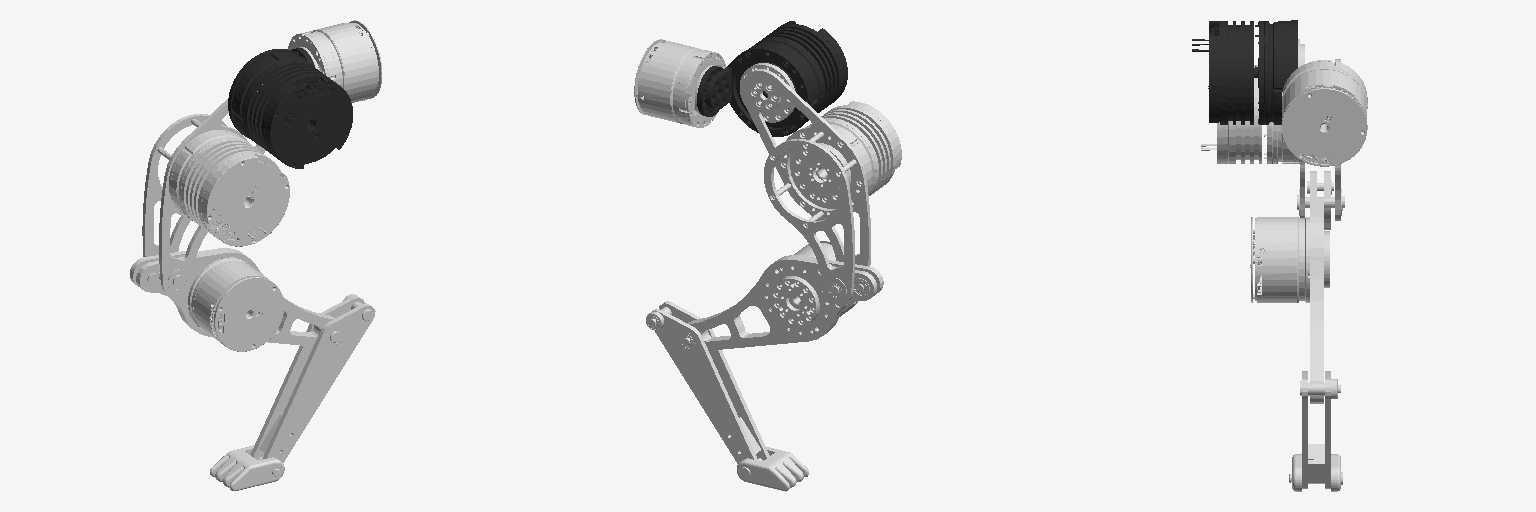
URDF robot description (CM_HL_v8):
<?xml version="1.0" encoding="utf-8"?>
<!-- This URDF was automatically created by SolidWorks to URDF Exporter! Originally created by Stephen Brawner (brawner@gmail.com) 
     Commit Version: 1.6.0-4-g7f85cfe  Build Version: 1.6.7995.38578
     For more information, please see http://wiki.ros.org/sw_urdf_exporter -->
<robot
  name="CM_HL_v8">
  <link
    name="base_link">
    <inertial>
      <origin
        xyz="0.079147034347242 0.000256543804017355 0.000435548775883074"
        rpy="0 0 0" />
      <mass
        value="0.0166778103679292" />
      <inertia
        ixx="1.46638258492931E-05"
        ixy="1.90183148822614E-09"
        ixz="3.68488235881721E-10"
        iyy="7.16031019539989E-06"
        iyz="-4.3543995749257E-08"
        izz="7.51790795790666E-06" />
    </inertial>
    <visual>
      <origin
        xyz="0 0 0"
        rpy="0 0 0" />
      <geometry>
        <mesh
          filename="package://CM_HL_v8/meshes/base_link.STL" />
      </geometry>
      <material
        name="">
        <color
          rgba="0.894117647058823 0.894117647058823 0.894117647058823 1" />
      </material>
    </visual>
    <collision>
      <origin
        xyz="0 0 0"
        rpy="0 0 0" />
      <geometry>
        <mesh
          filename="package://CM_HL_v8/meshes/base_link.STL" />
      </geometry>
    </collision>
  </link>
  <link
    name="HL_link2_thigh_r">
    <inertial>
      <origin
        xyz="0.0199957134741563 -0.0387726556940942 -0.000170134594790525"
        rpy="0 0 0" />
      <mass
        value="0.0392091866021753" />
      <inertia
        ixx="2.29078530952156E-05"
        ixy="-9.40088287932107E-09"
        ixz="-4.45868024964848E-07"
        iyy="4.06585481198753E-05"
        iyz="-5.4665397253342E-08"
        izz="2.37194865231989E-05" />
    </inertial>
    <visual>
      <origin
        xyz="0 0 0"
        rpy="0 0 0" />
      <geometry>
        <mesh
          filename="package://CM_HL_v8/meshes/HL_link2_thigh_r.STL" />
      </geometry>
      <material
        name="">
        <color
          rgba="0.223529411764706 0.223529411764706 0.223529411764706 1" />
      </material>
    </visual>
    <collision>
      <origin
        xyz="0 0 0"
        rpy="0 0 0" />
      <geometry>
        <mesh
          filename="package://CM_HL_v8/meshes/HL_link2_thigh_r.STL" />
      </geometry>
    </collision>
  </link>
  <joint
    name="HL_joint2_thigh_r"
    type="revolute">
    <origin
      xyz="0 0 0"
      rpy="0 0 0" />
    <parent
      link="base_link" />
    <child
      link="HL_link2_thigh_r" />
    <axis
      xyz="-1 0 0" />
    <limit
      lower="-3.14"
      upper="3.14"
      effort="100"
      velocity="0" />
  </joint>
  <link
    name="HL_link3_thigh_p">
    <inertial>
      <origin
        xyz="-0.0603282418668271 -0.0199078023804649 -0.0762642203724724"
        rpy="0 0 0" />
      <mass
        value="0.115410236451442" />
      <inertia
        ixx="0.000223812173465736"
        ixy="9.69380124023684E-08"
        ixz="-9.64538764909021E-05"
        iyy="0.000345887112245255"
        iyz="1.43580558480981E-07"
        izz="0.00012464524632718" />
    </inertial>
    <visual>
      <origin
        xyz="0 0 0"
        rpy="0 0 0" />
      <geometry>
        <mesh
          filename="package://CM_HL_v8/meshes/HL_link3_thigh_p.STL" />
      </geometry>
      <material
        name="">
        <color
          rgba="0.894117647058823 0.894117647058823 0.894117647058823 1" />
      </material>
    </visual>
    <collision>
      <origin
        xyz="0 0 0"
        rpy="0 0 0" />
      <geometry>
        <mesh
          filename="package://CM_HL_v8/meshes/HL_link3_thigh_p.STL" />
      </geometry>
    </collision>
  </link>
  <joint
    name="HL_joint3_thigh_p"
    type="revolute">
    <origin
      xyz="0 0 0"
      rpy="0 0 0" />
    <parent
      link="HL_link2_thigh_r" />
    <child
      link="HL_link3_thigh_p" />
    <axis
      xyz="0 1 0" />
    <limit
      lower="-3.14"
      upper="3.14"
      effort="100"
      velocity="0" />
  </joint>
  <link
    name="HL_link4_knee_p">
    <inertial>
      <origin
        xyz="0.0672316863132475 -0.00429574969821129 -0.0411999833706305"
        rpy="0 0 0" />
      <mass
        value="0.126150884922169" />
      <inertia
        ixx="0.000154424144181571"
        ixy="-1.1783426165149E-06"
        ixz="0.000172260725720491"
        iyy="0.000486223969288729"
        iyz="5.48278372175068E-07"
        izz="0.000334693769655284" />
    </inertial>
    <visual>
      <origin
        xyz="0 0 0"
        rpy="0 0 0" />
      <geometry>
        <mesh
          filename="package://CM_HL_v8/meshes/HL_link4_knee_p.STL" />
      </geometry>
      <material
        name="">
        <color
          rgba="0.894117647058823 0.894117647058823 0.894117647058823 1" />
      </material>
    </visual>
    <collision>
      <origin
        xyz="0 0 0"
        rpy="0 0 0" />
      <geometry>
        <mesh
          filename="package://CM_HL_v8/meshes/HL_link4_knee_p.STL" />
      </geometry>
    </collision>
  </link>
  <joint
    name="HL_joint4_knee_p"
    type="revolute">
    <origin
      xyz="-0.105 -0.004 -0.18187"
      rpy="0 0 0" />
    <parent
      link="HL_link3_thigh_p" />
    <child
      link="HL_link4_knee_p" />
    <axis
      xyz="0 -1 0" />
    <limit
      lower="-3.14"
      upper="3.14"
      effort="100"
      velocity="0" />
  </joint>
  <link
    name="HL_link5_ankle_p">
    <inertial>
      <origin
        xyz="-0.0208378663520434 0.0003114349045425 -0.0494616512372393"
        rpy="0 0 0" />
      <mass
        value="0.090814526434762" />
      <inertia
        ixx="0.000129272186316712"
        ixy="-9.37894899726077E-09"
        ixz="-8.58721453593097E-05"
        iyy="0.00019796827083096"
        iyz="7.24495545989856E-09"
        izz="7.04316711173481E-05" />
    </inertial>
    <visual>
      <origin
        xyz="0 0 0"
        rpy="0 0 0" />
      <geometry>
        <mesh
          filename="package://CM_HL_v8/meshes/HL_link5_ankle_p.STL" />
      </geometry>
      <material
        name="">
        <color
          rgba="0.894117647058823 0.894117647058823 0.894117647058823 1" />
      </material>
    </visual>
    <collision>
      <origin
        xyz="0 0 0"
        rpy="0 0 0" />
      <geometry>
        <mesh
          filename="package://CM_HL_v8/meshes/HL_link5_ankle_p.STL" />
      </geometry>
    </collision>
  </link>
  <joint
    name="HL_joint5_ankle_p"
    type="revolute">
    <origin
      xyz="0.18187 -0.0035 -0.105"
      rpy="0 0 0" />
    <parent
      link="HL_link4_knee_p" />
    <child
      link="HL_link5_ankle_p" />
    <axis
      xyz="0 1 0" />
    <limit
      lower="-3.14"
      upper="3.14"
      effort="100"
      velocity="0" />
  </joint>
  <link
    name="HL_link6_toe_p">
    <inertial>
      <origin
        xyz="-0.0205541894626347 5.08872277533408E-05 -0.000853746825219104"
        rpy="0 0 0" />
      <mass
        value="0.0392139289733728" />
      <inertia
        ixx="9.84407361555167E-06"
        ixy="9.80698424431825E-13"
        ixz="-6.12847391019406E-07"
        iyy="8.84697022702377E-06"
        iyz="-6.97280742181781E-12"
        izz="1.55193417810945E-05" />
    </inertial>
    <visual>
      <origin
        xyz="0 0 0"
        rpy="0 0 0" />
      <geometry>
        <mesh
          filename="package://CM_HL_v8/meshes/HL_link6_toe_p.STL" />
      </geometry>
      <material
        name="">
        <color
          rgba="0.894117647058823 0.894117647058823 0.894117647058823 1" />
      </material>
    </visual>
    <collision>
      <origin
        xyz="0 0 0"
        rpy="0 0 0" />
      <geometry>
        <mesh
          filename="package://CM_HL_v8/meshes/HL_link6_toe_p.STL" />
      </geometry>
    </collision>
  </link>
  <joint
    name="HL_joint6_toe_p"
    type="revolute">
    <origin
      xyz="-0.074 0 -0.12817"
      rpy="0 0 0" />
    <parent
      link="HL_link5_ankle_p" />
    <child
      link="HL_link6_toe_p" />
    <axis
      xyz="0 1 0" />
    <limit
      lower="-3.14"
      upper="3.14"
      effort="100"
      velocity="0" />
  </joint>
</robot>

--- Facts derived from the render (not from the file) ---
Views: 3 orthographic renders of the robot side by side, from view 1: azimuth 30°, elevation 25°; view 2: azimuth 150°, elevation 25°; view 3: azimuth 270°, elevation 25°.
Model CM_HL_v8 with 6 links and 5 joints (5 revolute), rooted at base_link, posed all joints at 0.
Links seen in each view (by area): view 1: HL_link3_thigh_p, HL_link2_thigh_r, HL_link4_knee_p, HL_link5_ankle_p, base_link, HL_link6_toe_p; view 2: HL_link3_thigh_p, HL_link4_knee_p, HL_link2_thigh_r, HL_link5_ankle_p, base_link, HL_link6_toe_p; view 3: HL_link4_knee_p, HL_link2_thigh_r, base_link, HL_link3_thigh_p, HL_link5_ankle_p, HL_link6_toe_p.
Boxes of the visible links, x1,y1,x2,y2 form: HL_link3_thigh_p: [142, 84, 289, 296]; HL_link2_thigh_r: [228, 48, 352, 168]; HL_link4_knee_p: [130, 248, 334, 351]; HL_link5_ankle_p: [250, 294, 375, 462]; base_link: [288, 20, 381, 102]; HL_link6_toe_p: [210, 445, 284, 490]; HL_link3_thigh_p: [740, 63, 901, 304]; HL_link4_knee_p: [687, 241, 883, 350]; HL_link2_thigh_r: [697, 21, 847, 136]; HL_link5_ankle_p: [646, 301, 769, 463]; base_link: [634, 39, 725, 127]; HL_link6_toe_p: [737, 447, 808, 491]; HL_link4_knee_p: [1250, 171, 1333, 403]; HL_link2_thigh_r: [1192, 20, 1297, 124]; base_link: [1282, 60, 1367, 166]; HL_link3_thigh_p: [1201, 39, 1344, 220]; HL_link5_ankle_p: [1300, 371, 1340, 488]; HL_link6_toe_p: [1289, 454, 1342, 491].
Bounding box of the posed robot: 0.2682 × 0.163 × 0.476 m (x, y, z).
Meshes: 6 distinct files referenced, 6 mesh visuals loaded (6 binary STL).
